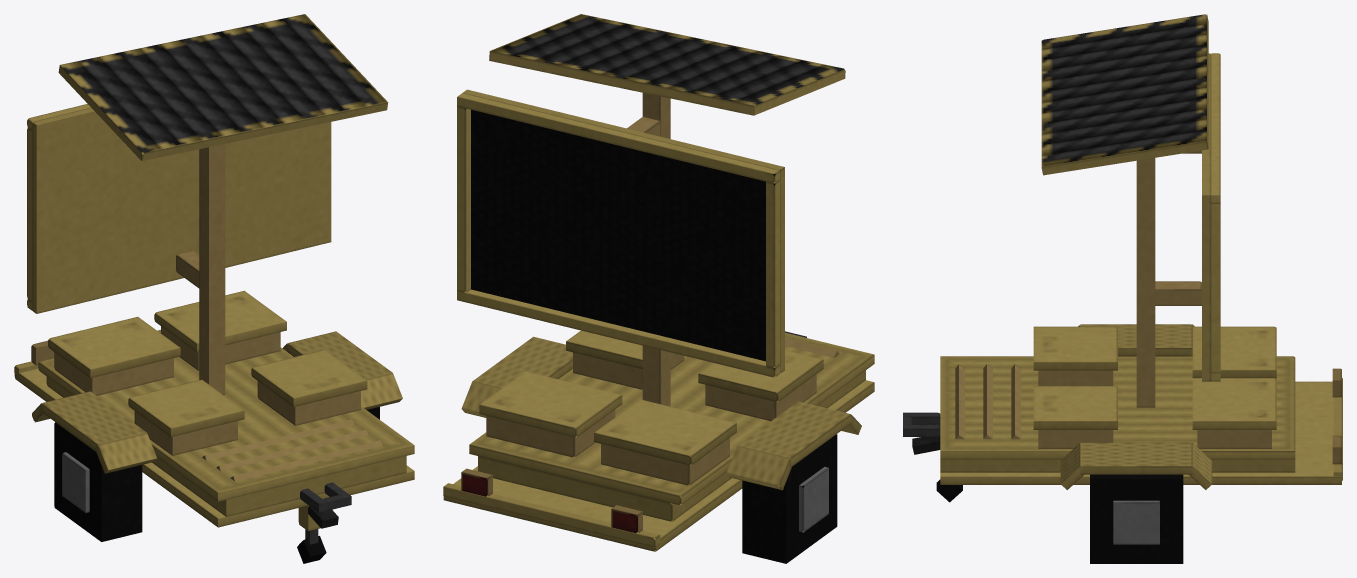
The model's file is maintenance_screen.obj.
3 views of the same model, side by side, from view 1: azimuth 30°, elevation 25°; view 2: azimuth 150°, elevation 25°; view 3: azimuth 270°, elevation 25° (orthographic). The views are drawn at different scales.
Visible parts, largest first — view 1: od, oe, nF, oc, nx, nW, nX, nY, nN, nV, nM, nz (+14 smaller); view 2: od, oe, nF, nx, nV, nW, nM, oh, nN, oi, nz, nX (+15 smaller); view 3: oe, nF, nM, ny, oc, nV, nX, nY, nD, nW, nN, od (+14 smaller).
Part boxes in pixels (x1=…): od: x1=32, y1=107, x2=331, y2=313; oe: x1=58, y1=14, x2=388, y2=160; nF: x1=38, y1=332, x2=414, y2=501; oc: x1=199, y1=144, x2=225, y2=394; nx: x1=54, y1=422, x2=142, y2=541; nW: x1=48, y1=317, x2=180, y2=378; nX: x1=128, y1=379, x2=244, y2=436; nY: x1=251, y1=349, x2=367, y2=406; nN: x1=46, y1=376, x2=406, y2=516; nV: x1=154, y1=290, x2=286, y2=352; nM: x1=14, y1=368, x2=414, y2=527; nz: x1=41, y1=391, x2=146, y2=451; od: x1=462, y1=89, x2=784, y2=373; oe: x1=489, y1=14, x2=845, y2=115; nF: x1=469, y1=332, x2=874, y2=505; nx: x1=742, y1=434, x2=837, y2=563; nV: x1=479, y1=371, x2=622, y2=437; nW: x1=594, y1=399, x2=736, y2=465; nM: x1=443, y1=380, x2=874, y2=551; oh: x1=457, y1=93, x2=779, y2=183; nN: x1=478, y1=370, x2=865, y2=521; oi: x1=457, y1=289, x2=779, y2=377; nz: x1=737, y1=401, x2=851, y2=467; nX: x1=698, y1=350, x2=823, y2=402; oe: x1=1041, y1=14, x2=1208, y2=175; nF: x1=940, y1=356, x2=1295, y2=459; nM: x1=940, y1=381, x2=1341, y2=484; ny: x1=1090, y1=474, x2=1183, y2=563; oc: x1=1136, y1=158, x2=1155, y2=407; nV: x1=1192, y1=378, x2=1276, y2=429; nX: x1=1033, y1=326, x2=1117, y2=370; nY: x1=1033, y1=386, x2=1117, y2=429; nD: x1=1080, y1=442, x2=1192, y2=474; nW: x1=1192, y1=326, x2=1276, y2=378; nN: x1=940, y1=459, x2=1295, y2=472; od: x1=1202, y1=53, x2=1211, y2=381.
Bounding box in the file's own units: 2.7 × 3.77 × 3.53.
Materials: 1 (1 with a texture image).
